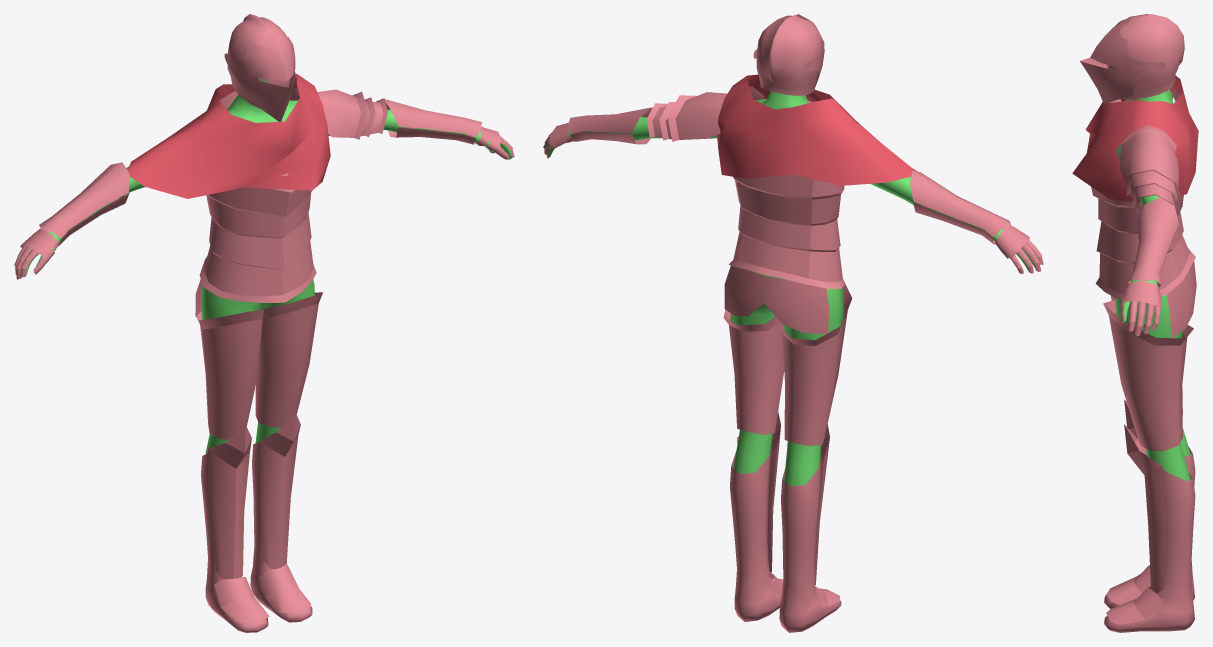
Rendered from armornew.fbx.
3 views of the same model, side by side, from view 1: azimuth 30°, elevation 25°; view 2: azimuth 150°, elevation 25°; view 3: azimuth 270°, elevation 25° (orthographic).
Parts seen in each view (by area): view 1: Armor; view 2: Armor; view 3: Armor.
Part boxes in pixels (box(x1,y1,x2,y2)): Armor: box(14, 14, 514, 632); Armor: box(543, 14, 1043, 632); Armor: box(1072, 14, 1198, 632).
Size of the model in its own units: 173 by 199 by 37.85.
